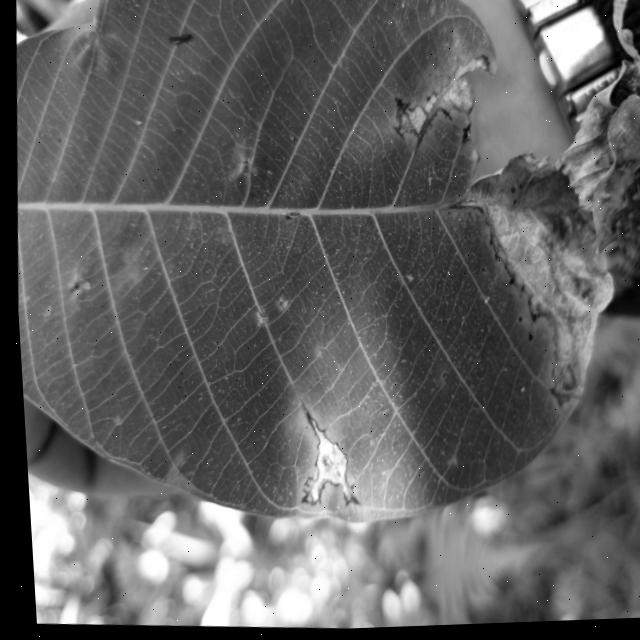Colletotrichum: (438, 375, 444, 383)
Corynespora: (408, 114, 433, 157)
Leaf-Blight: (436, 0, 640, 418), (391, 55, 491, 143), (301, 422, 350, 504)
